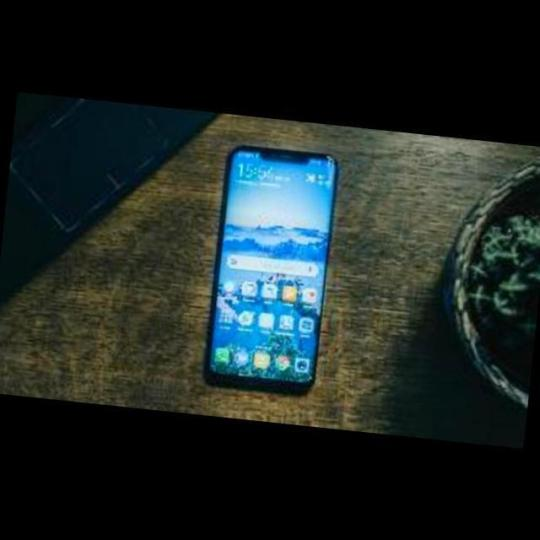phone: (209, 135, 340, 399)
